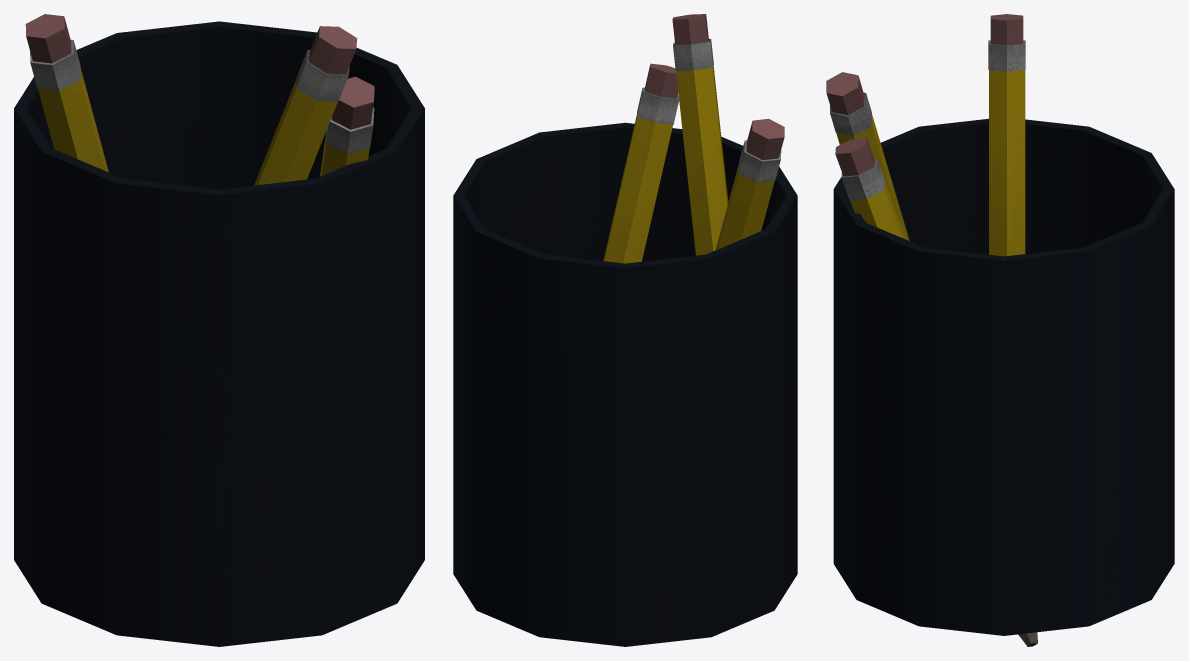
File: Pencil_Holder.fbx
3 renders of one model, left to right at view 1: azimuth 30°, elevation 25°; view 2: azimuth 150°, elevation 25°; view 3: azimuth 270°, elevation 25°, orthographic. The views are drawn at different scales.
Parts seen in each view (by area): view 1: Pencil_Holder; view 2: Pencil_Holder; view 3: Pencil_Holder.
Boxes of the visible parts, x1=… form: Pencil_Holder: x1=14, y1=14, x2=424, y2=646; Pencil_Holder: x1=453, y1=14, x2=797, y2=646; Pencil_Holder: x1=826, y1=14, x2=1174, y2=646.
Bounding box in the file's own units: 0.1178 × 0.1994 × 0.1159.
